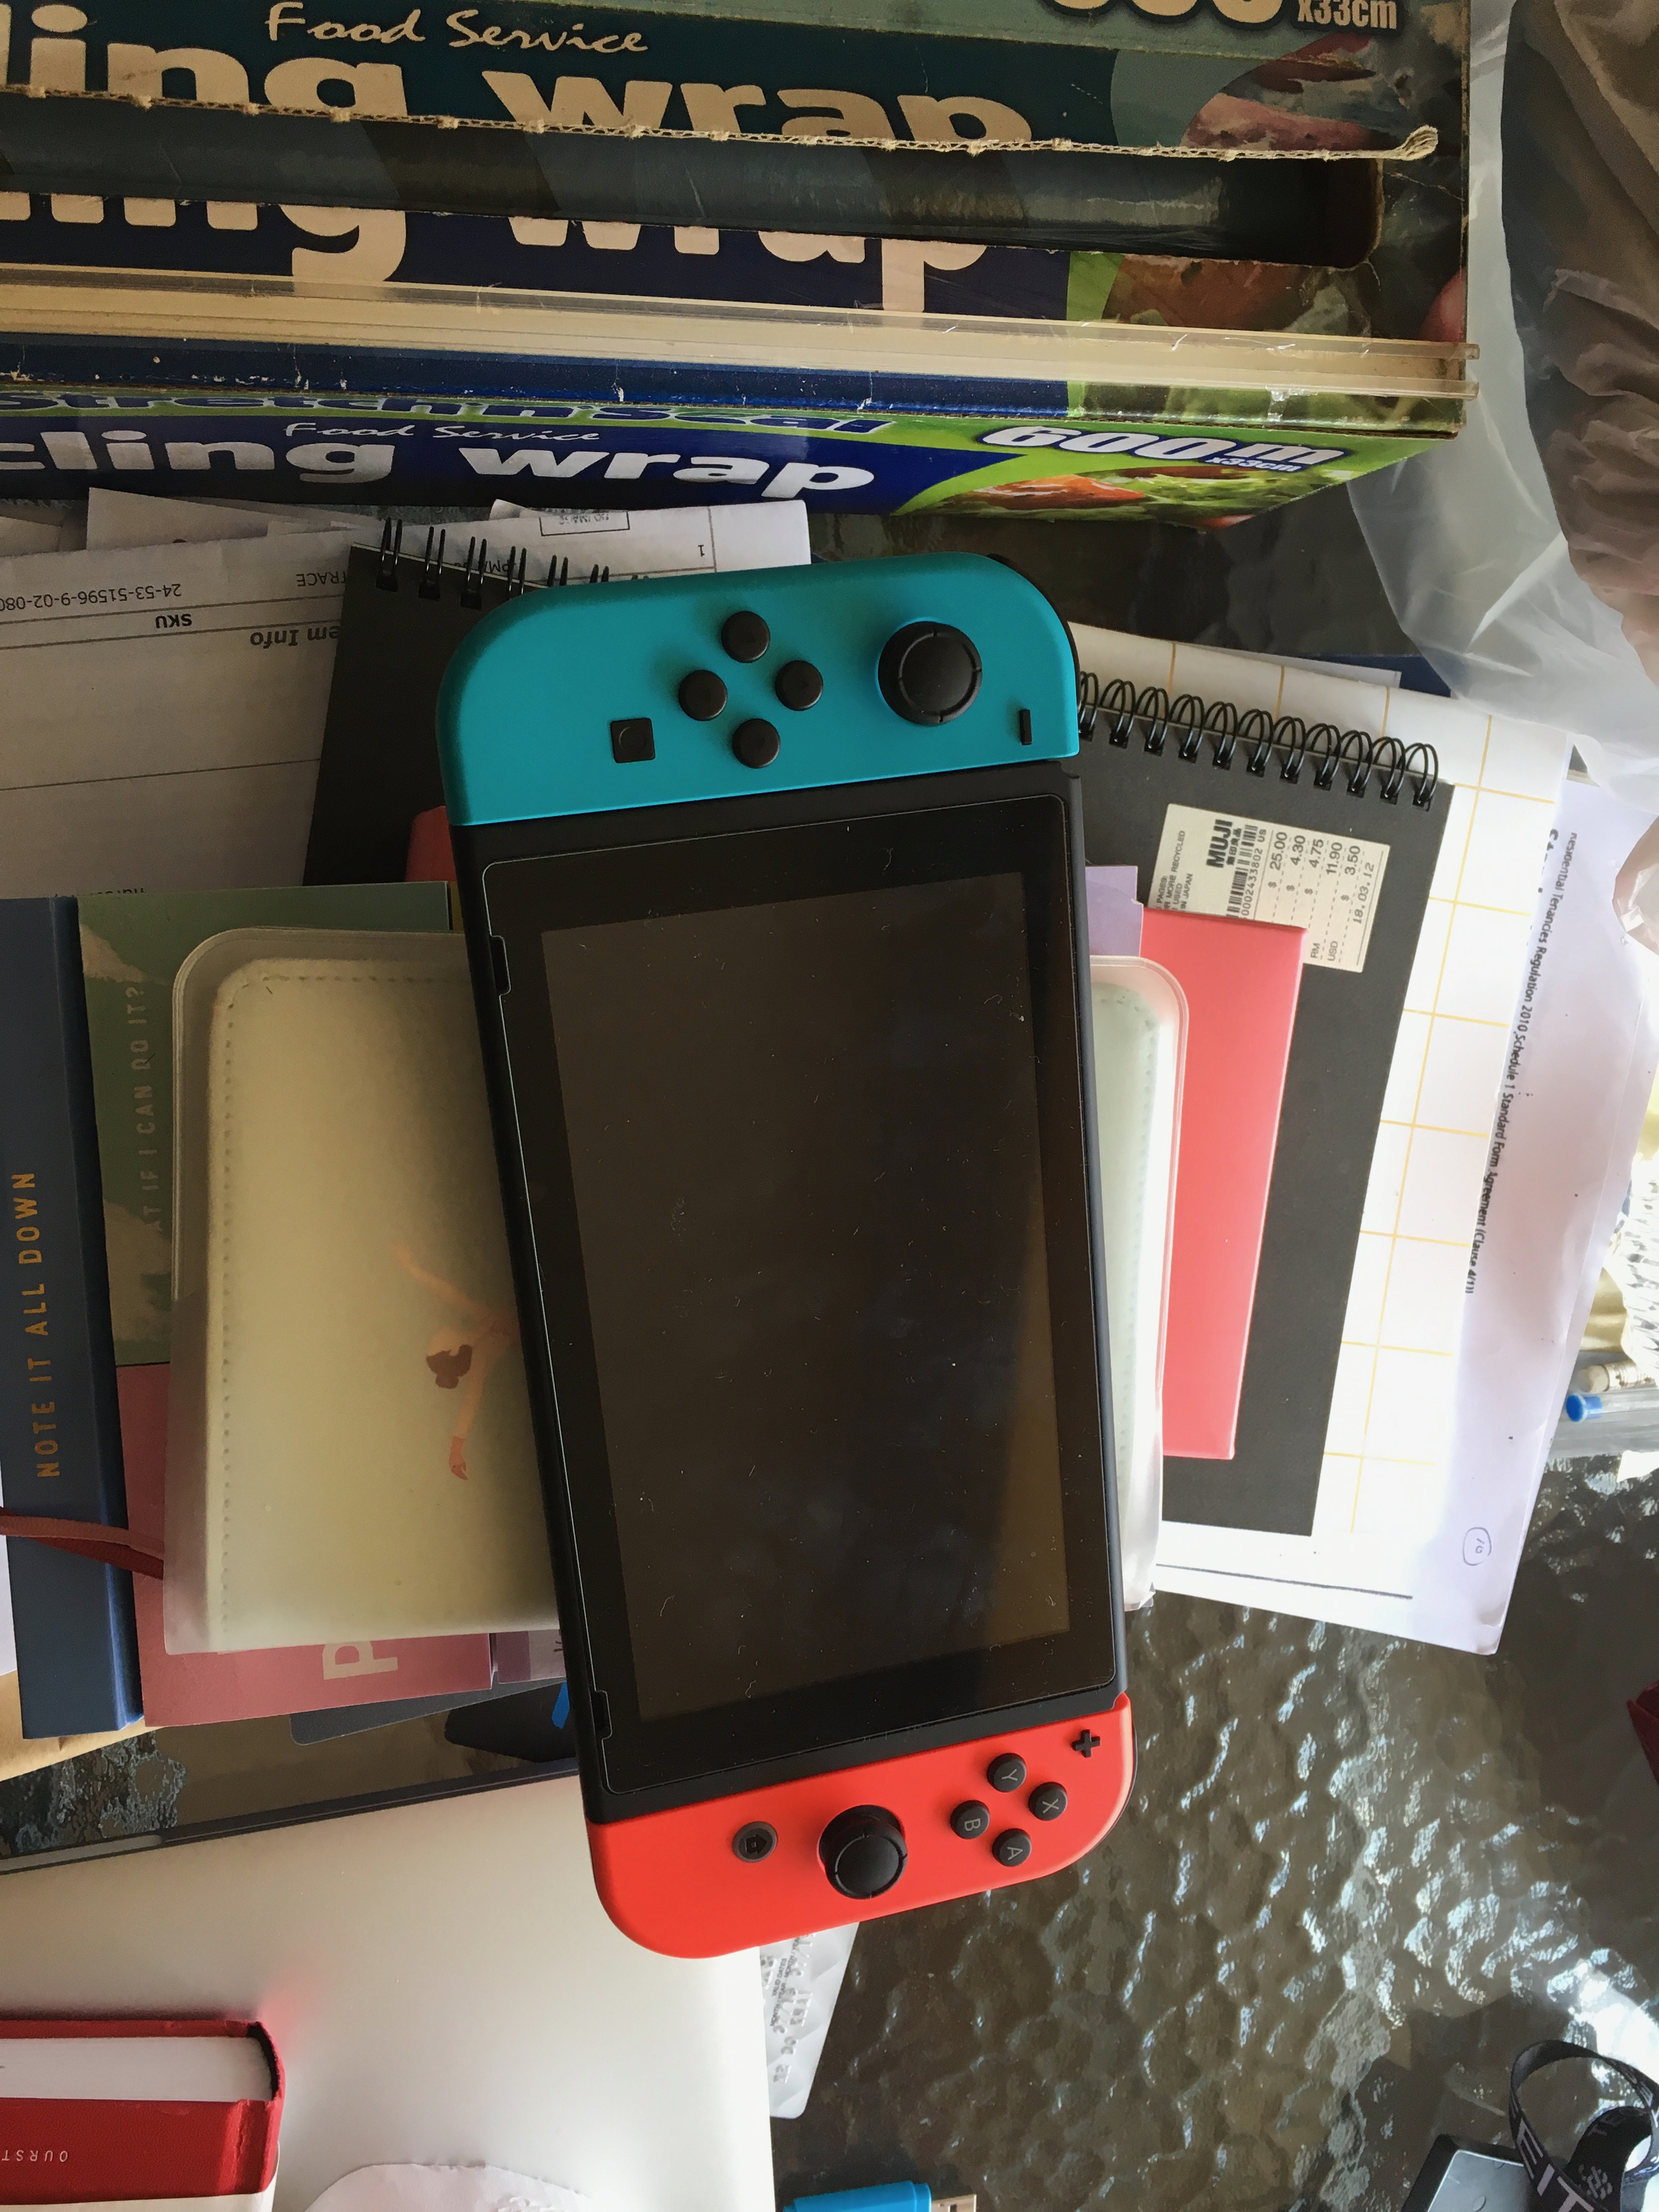NintendoSwitch: (423, 540, 1152, 1968)
